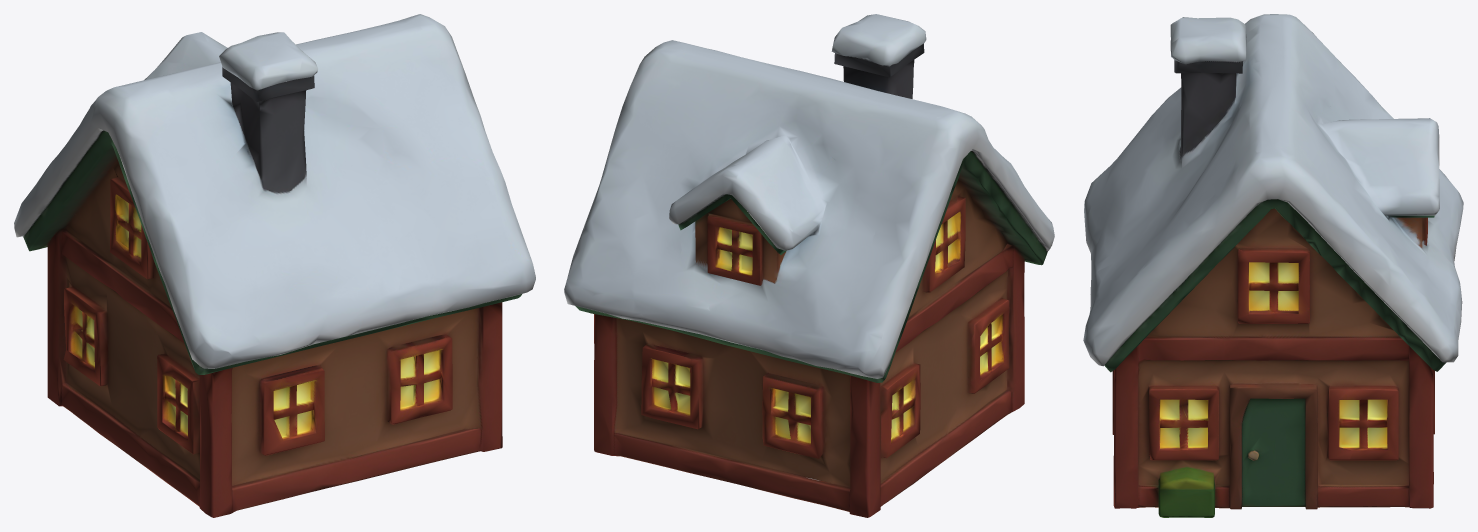
Rendered from house-a.glb.
The picture shows the model from 3 angles, left to right: view 1: azimuth 30°, elevation 25°; view 2: azimuth 150°, elevation 25°; view 3: azimuth 270°, elevation 25°; orthographic projection. The views are drawn at different scales.
Visible parts, largest first — view 1: tripo_node_7c8e44b3-3f55-4c0b-bbc8-4f8d81b2e32c; view 2: tripo_node_7c8e44b3-3f55-4c0b-bbc8-4f8d81b2e32c; view 3: tripo_node_7c8e44b3-3f55-4c0b-bbc8-4f8d81b2e32c.
Boxes of the visible parts, <box> form: tripo_node_7c8e44b3-3f55-4c0b-bbc8-4f8d81b2e32c: <box>14,14,535,517</box>; tripo_node_7c8e44b3-3f55-4c0b-bbc8-4f8d81b2e32c: <box>564,14,1054,517</box>; tripo_node_7c8e44b3-3f55-4c0b-bbc8-4f8d81b2e32c: <box>1083,14,1463,517</box>.
Size of the model in its own units: 0.8677 by 1 by 0.8705.
Materials: 1 (1 with a texture image).
